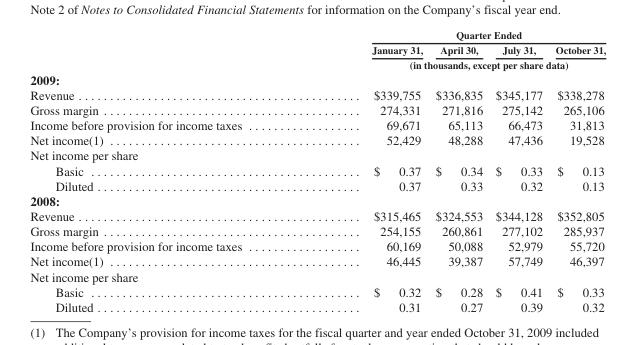table: (29, 28, 605, 313)
table column: (29, 28, 306, 313), (306, 28, 428, 313), (428, 28, 488, 313), (488, 28, 548, 313), (548, 28, 605, 313)
table column header: (29, 28, 605, 71)
table projected row header: (29, 192, 605, 208), (29, 71, 605, 86), (29, 147, 605, 162), (29, 268, 605, 283)
table row: (29, 86, 605, 102), (29, 192, 605, 208), (29, 283, 605, 299), (29, 42, 605, 57), (29, 71, 605, 86), (29, 102, 605, 117), (29, 117, 605, 132), (29, 132, 605, 147), (29, 147, 605, 162), (29, 162, 605, 177), (29, 177, 605, 192), (29, 208, 605, 223), (29, 223, 605, 238), (29, 238, 605, 253), (29, 253, 605, 268), (29, 268, 605, 283), (29, 28, 605, 42), (29, 57, 605, 71), (29, 299, 605, 313)
table spanning cell: (306, 28, 605, 42), (306, 57, 605, 71)
